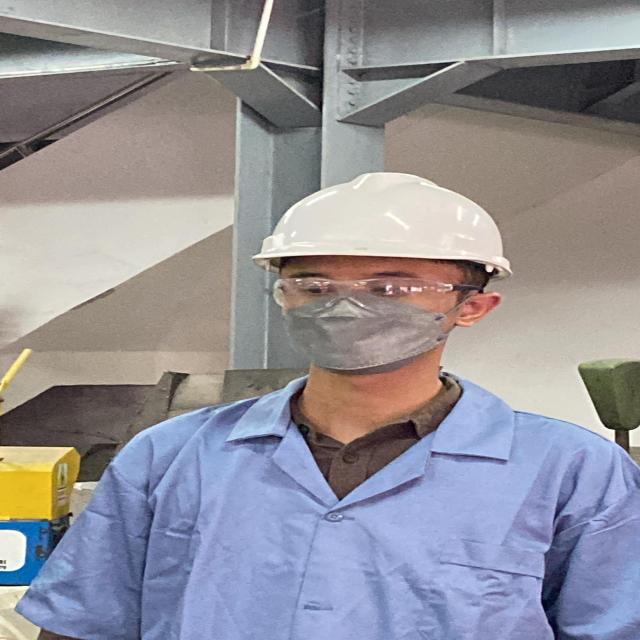face_mask: (270, 270, 454, 367)
glasses: (260, 271, 490, 317)
head_helmet: (238, 167, 517, 268)
person: (8, 170, 640, 640)
